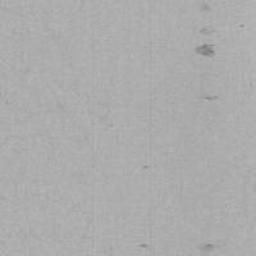Inclusion: (196, 44, 215, 56), (200, 28, 213, 34), (203, 244, 214, 250), (205, 96, 218, 101), (202, 3, 210, 11)
